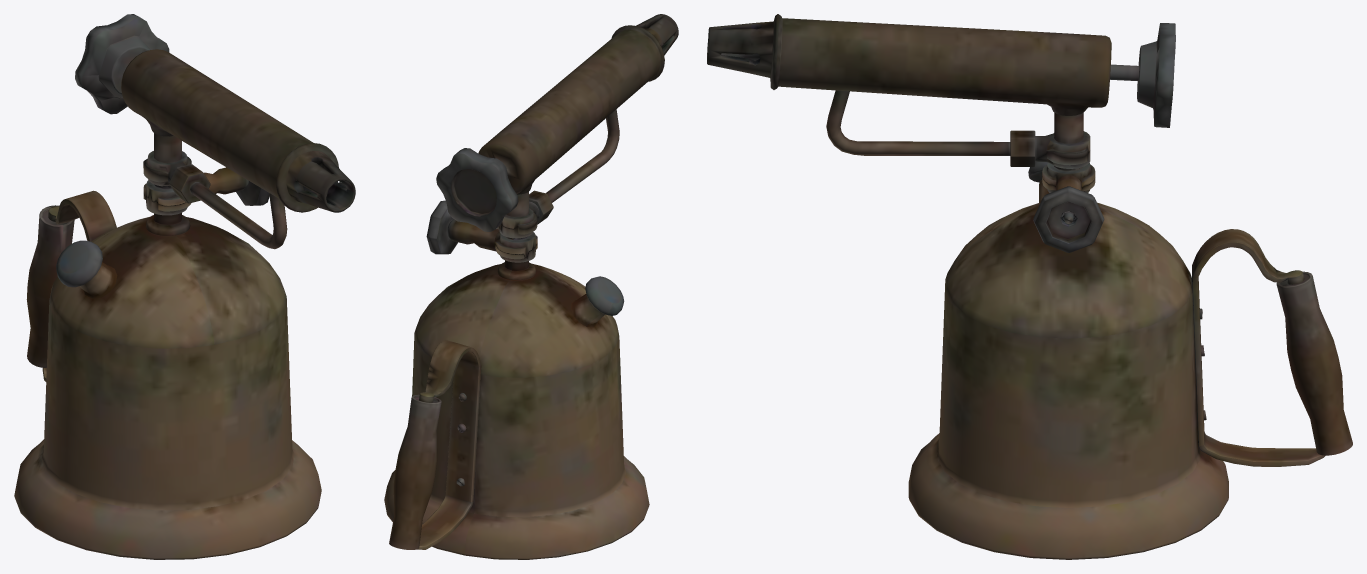
File: brass_blowtorch.glb
3 renders of one model, left to right at view 1: azimuth 30°, elevation 25°; view 2: azimuth 150°, elevation 25°; view 3: azimuth 270°, elevation 25°, orthographic. The views are drawn at different scales.
Parts seen in each view (by area): view 1: brass_blowtorch; view 2: brass_blowtorch; view 3: brass_blowtorch.
Boxes of the visible parts, x1,y1,x2,y2 form: brass_blowtorch: (14,14,355,559); brass_blowtorch: (384,14,678,559); brass_blowtorch: (707,14,1352,559).
Bounding box in the file's own units: 0.1294 × 0.2106 × 0.2593.
1 material, 1 textured.
